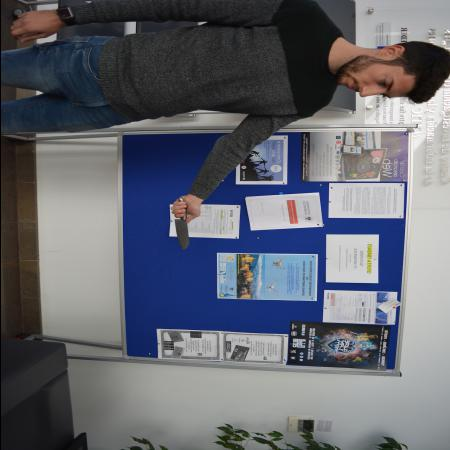long weapon: (169, 196, 191, 252)
